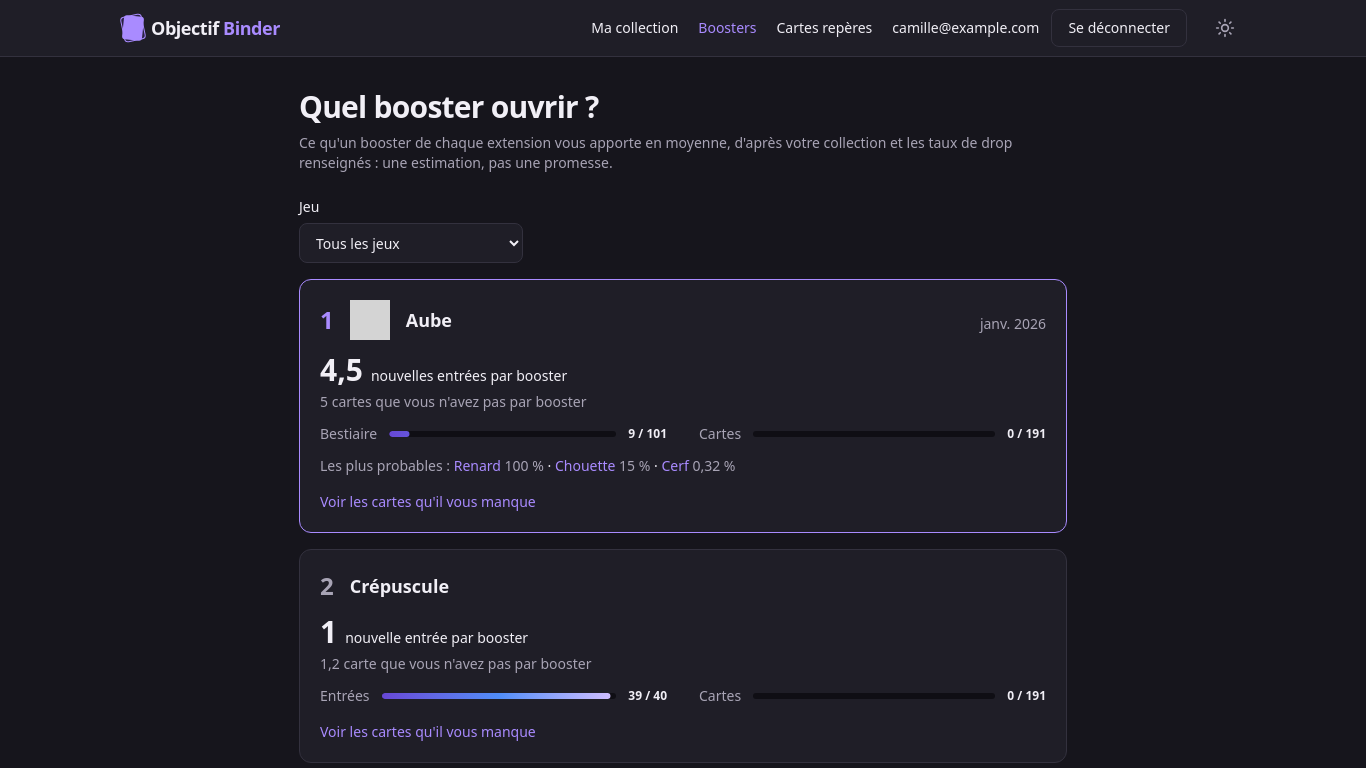
Test case: which booster to open › narrows the ranking to a game, kept in the address, and ranks again from the first
Check: the element "Aube" is shown, box x1=299 y1=279 x2=1067 y2=533
Select "Autre jeu" in the dropdown labelled "Jeu" at {"x": 411, "y": 243}, box x1=299 y1=223 x2=523 y2=263
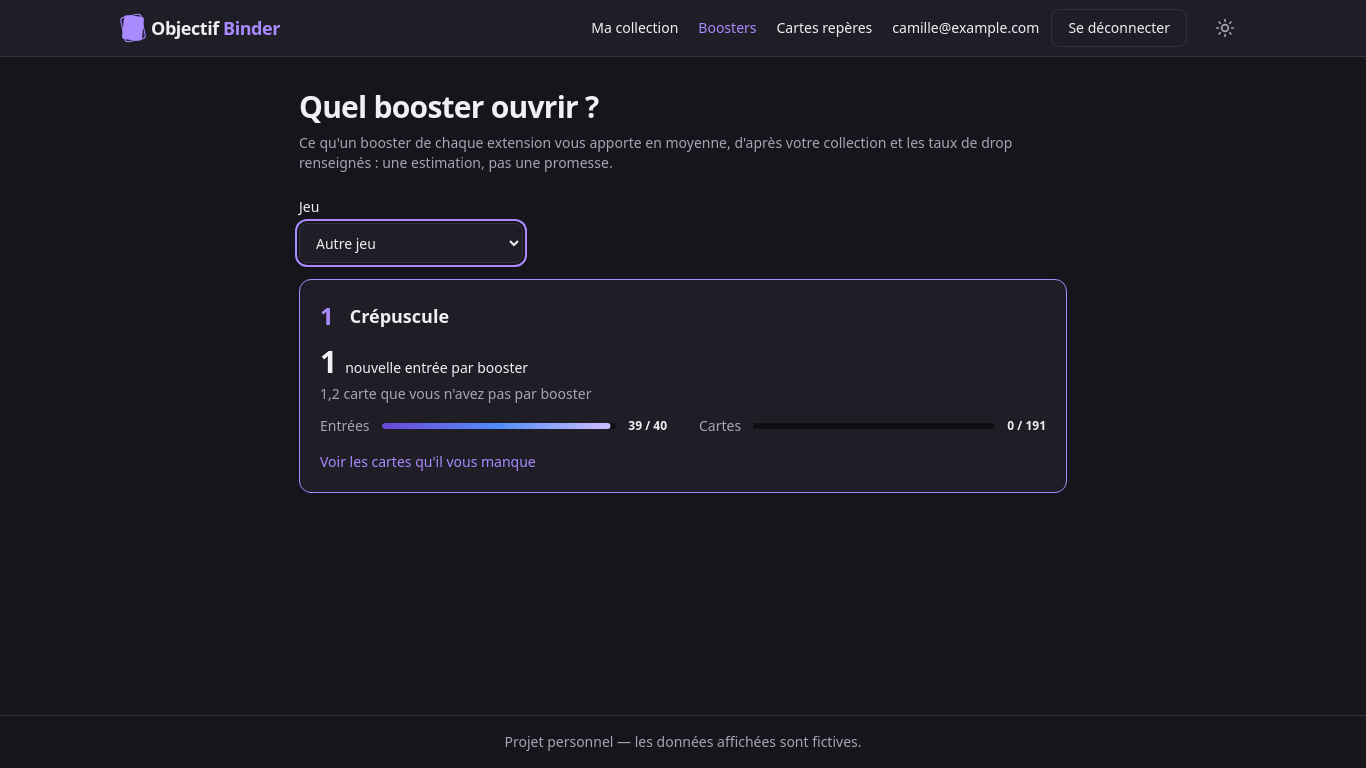
Check: the text "1" next to "Crépuscule" is shown, box x1=320 y1=299 x2=334 y2=332
